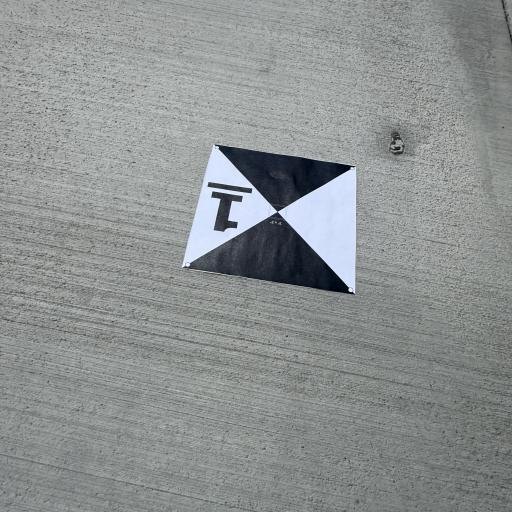target1: (184, 136, 364, 304)
